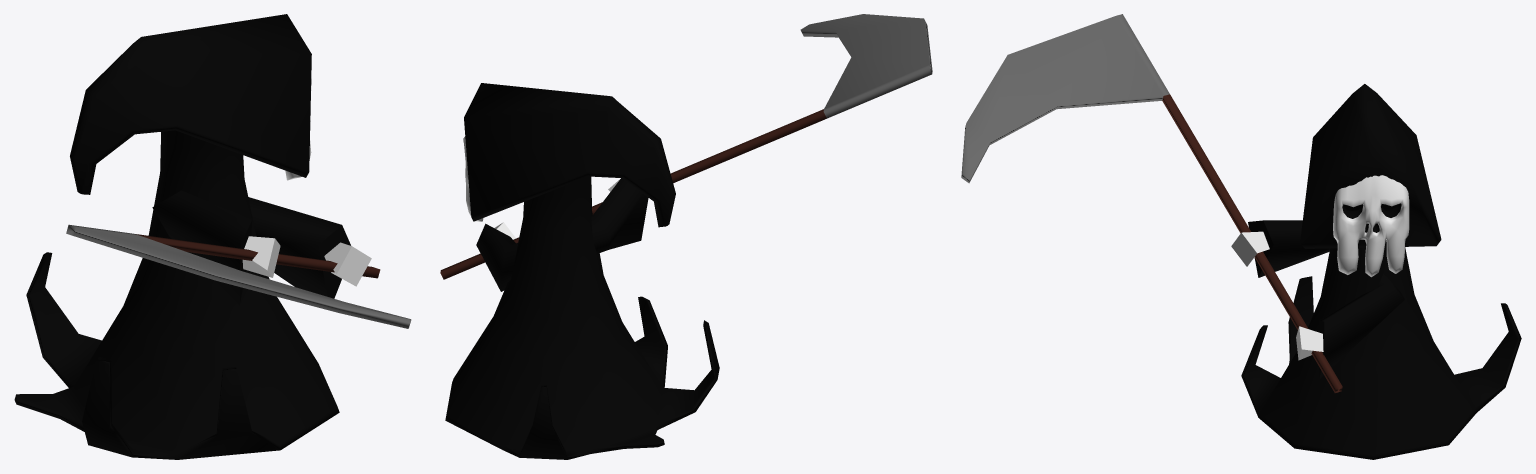
The model's file is muerte_Tpose.fbx.
3 views of the same model, side by side, from view 1: azimuth 30°, elevation 25°; view 2: azimuth 150°, elevation 25°; view 3: azimuth 270°, elevation 25° (orthographic). The views are drawn at different scales.
Parts seen in each view (by area): view 1: cuerpo, brazos; view 2: cuerpo, brazos; view 3: cuerpo, brazos.
Boxes of the visible parts, x1,y1,x2,y2 form: cuerpo: (14,14,339,459); brazos: (66,190,411,328); cuerpo: (445,83,719,459); brazos: (440,14,932,291); cuerpo: (1241,84,1521,459); brazos: (961,14,1404,392).
Bounding box in the file's own units: 69.91 × 57.29 × 94.62.
